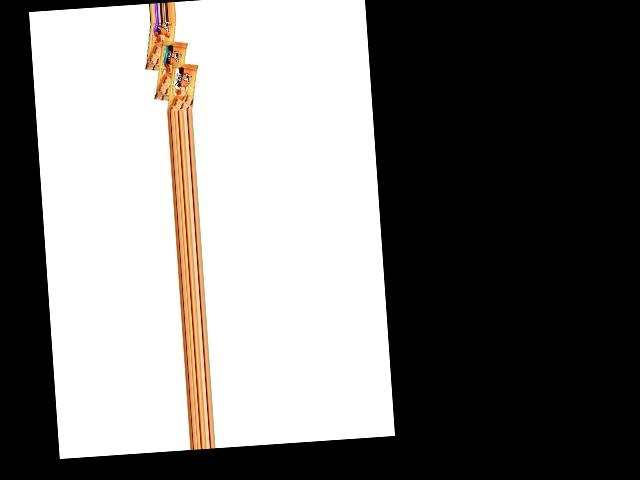chocolate: (144, 20, 180, 75)
